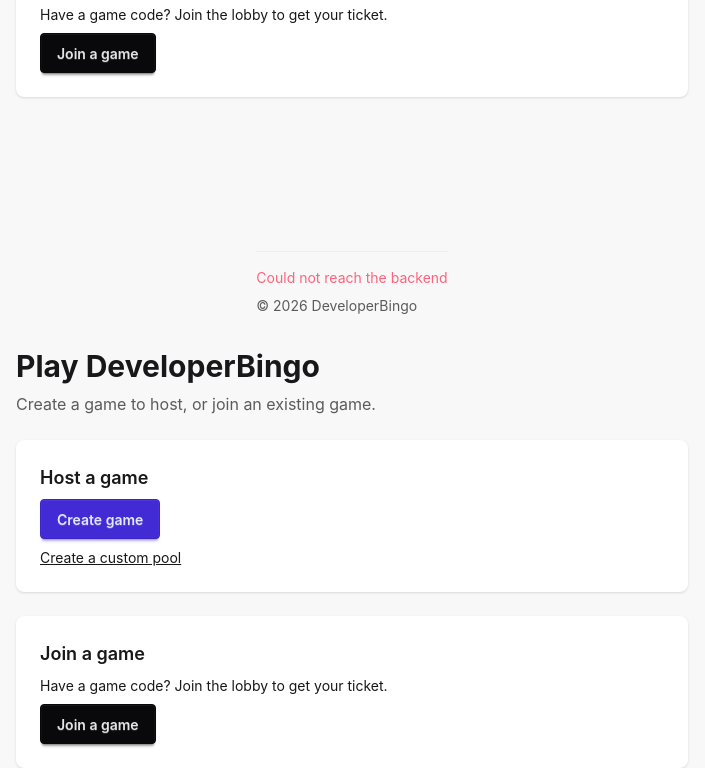
Test: HomeView › reports a failed game creation
(page scrolled)
Step 1. Click the button with test id "create-game" → point(100, 519), box [40, 499, 160, 539]
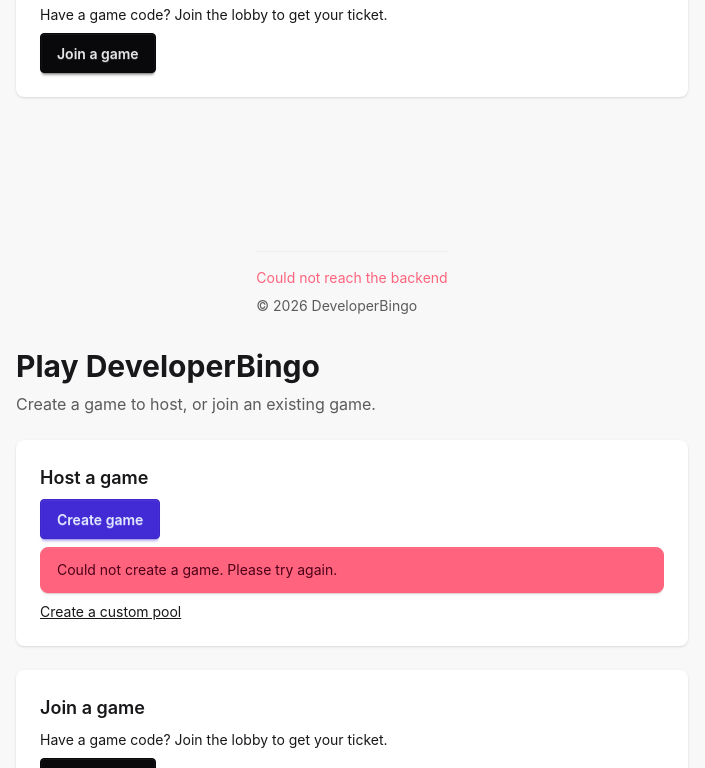
Now the message "Could not create a game. Please try again." is shown, box [40, 547, 664, 593]
